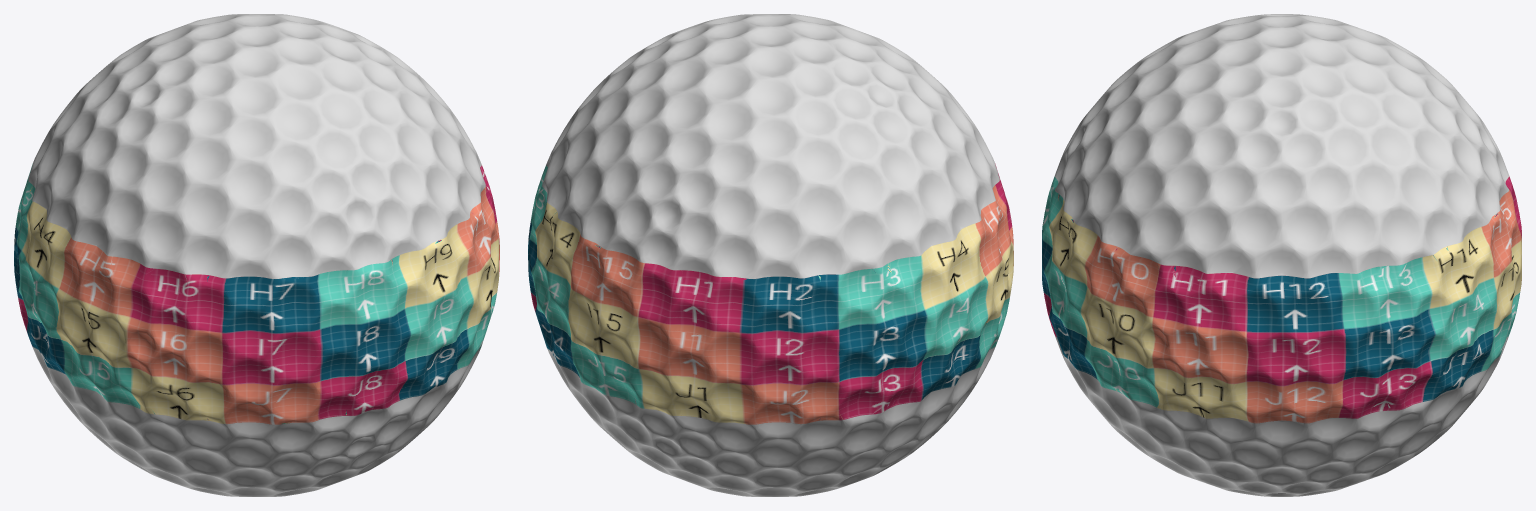
Rendered from golf-ball-v003.obj.
The picture shows the model from 3 angles, left to right: view 1: azimuth 30°, elevation 25°; view 2: azimuth 150°, elevation 25°; view 3: azimuth 270°, elevation 25°; orthographic projection.
Parts seen in each view (by area): view 1: poles, equator; view 2: poles, equator; view 3: poles, equator.
Part boxes in pixels (left/top/right/bottom): poles: left=28, top=14, right=485, bottom=496; equator: left=14, top=163, right=499, bottom=424; poles: left=542, top=14, right=999, bottom=496; equator: left=528, top=163, right=1013, bottom=424; poles: left=1055, top=14, right=1508, bottom=496; equator: left=1042, top=176, right=1521, bottom=423.
Bounding box in the file's own units: 2.96 × 2.96 × 2.96.
Materials: 2 (1 with a texture image).
